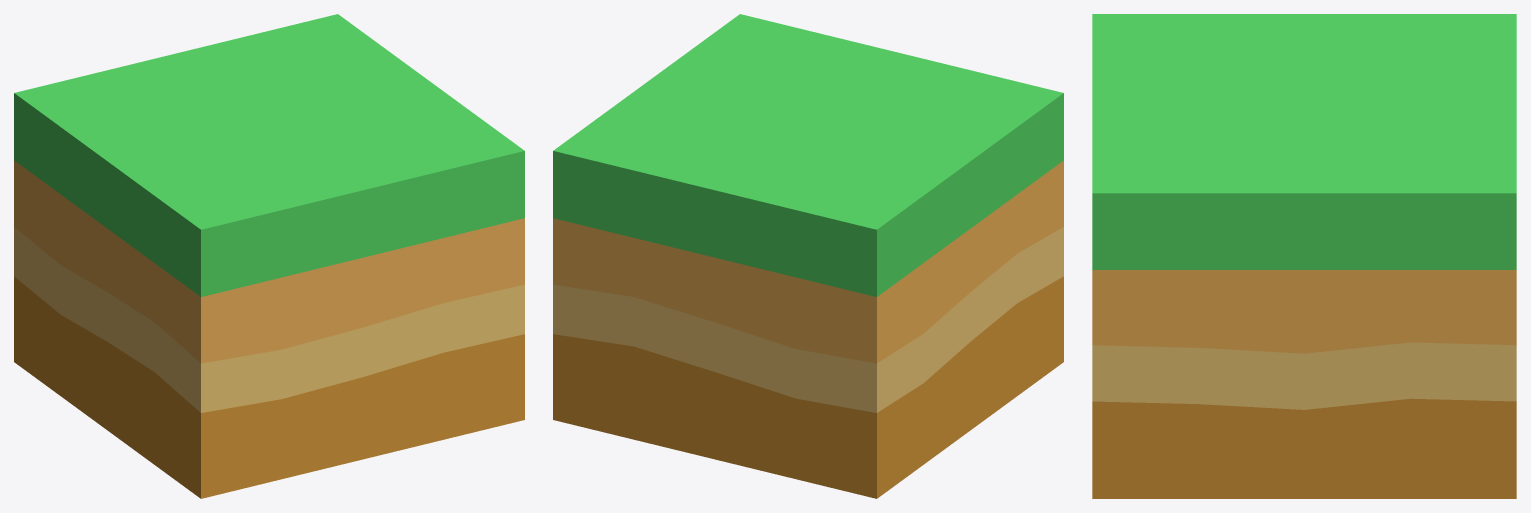
Rendered from cornered.fbx.
The picture shows the model from 3 angles, left to right: view 1: azimuth 30°, elevation 25°; view 2: azimuth 150°, elevation 25°; view 3: azimuth 270°, elevation 25°; orthographic projection. The views are drawn at different scales.
Visible parts, largest first — view 1: Cube.013; view 2: Cube.013; view 3: Cube.013.
Boxes of the visible parts, <box> form: Cube.013: <box>14,14,524,498</box>; Cube.013: <box>553,14,1063,498</box>; Cube.013: <box>1092,14,1516,498</box>.
Bounding box in the file's own units: 1 × 0.7944 × 1.
